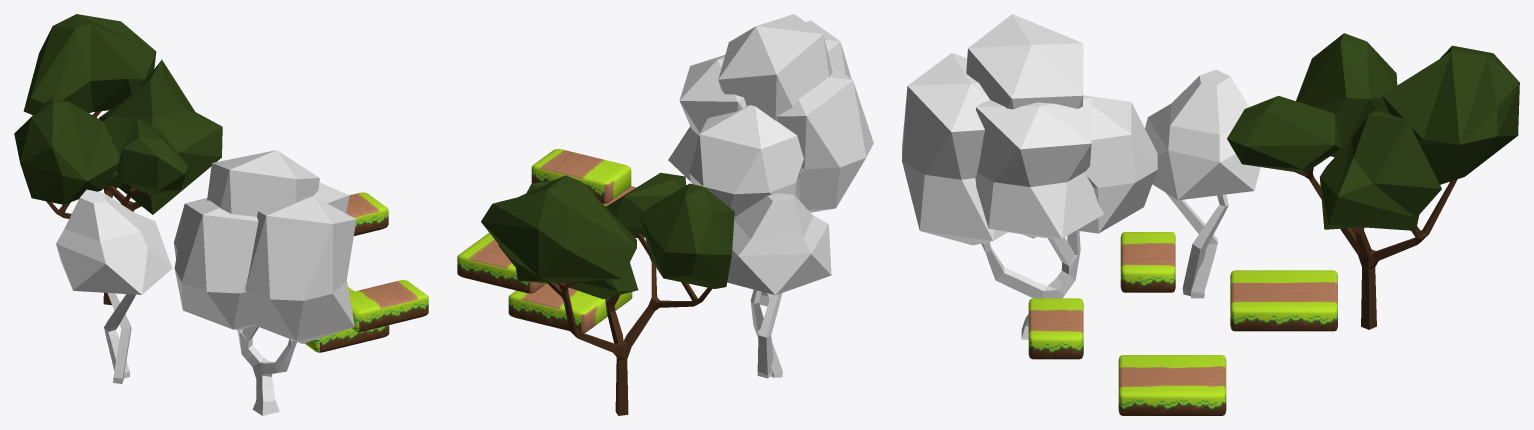
The model's file is ICONE-FAZE-1.fbx.
3 renders of one model, left to right at view 1: azimuth 30°, elevation 25°; view 2: azimuth 150°, elevation 25°; view 3: azimuth 270°, elevation 25°, orthographic. The views are drawn at different scales.
Parts seen in each view (by area): view 1: Crown, Icosphere.037, Icosphere.041, Icosphere.038, Icosphere.039, Ground.037, Cube.009, Ground.039, Ground.041, Cube.010, Cube.011, Vert (+1 smaller); view 2: Crown, Icosphere.036, Icosphere.038, Icosphere.041, Icosphere.039, Vert, Icosphere.040, Ground.041, Ground.039, Ground.040, Cube.010, Icosphere.037 (+1 smaller); view 3: Crown, Icosphere.040, Icosphere.037, Icosphere.041, Icosphere.039, Icosphere.036, Ground.040, Ground.041, Ground.037, Ground.039, Vert, Cube.009 (+2 smaller).
Part boxes in pixels (x1=…): Crown: x1=14, y1=14, x2=222, y2=214; Icosphere.037: x1=245, y1=196, x2=356, y2=343; Icosphere.041: x1=56, y1=189, x2=172, y2=294; Icosphere.038: x1=174, y1=200, x2=258, y2=329; Icosphere.039: x1=207, y1=150, x2=319, y2=216; Ground.037: x1=349, y1=280, x2=428, y2=331; Cube.009: x1=237, y1=325, x2=296, y2=415; Ground.039: x1=346, y1=192, x2=388, y2=235; Ground.041: x1=304, y1=287, x2=389, y2=352; Cube.010: x1=104, y1=294, x2=135, y2=378; Cube.011: x1=107, y1=293, x2=131, y2=383; Vert: x1=46, y1=111, x2=148, y2=305; Crown: x1=481, y1=172, x2=734, y2=299; Icosphere.036: x1=689, y1=105, x2=803, y2=217; Icosphere.038: x1=776, y1=64, x2=873, y2=212; Icosphere.041: x1=727, y1=193, x2=831, y2=295; Icosphere.039: x1=718, y1=14, x2=832, y2=120; Vert: x1=546, y1=233, x2=712, y2=415; Icosphere.040: x1=668, y1=55, x2=746, y2=181; Ground.041: x1=508, y1=283, x2=632, y2=332; Ground.039: x1=531, y1=149, x2=631, y2=203; Ground.040: x1=457, y1=232, x2=546, y2=293; Cube.010: x1=757, y1=293, x2=782, y2=378; Icosphere.037: x1=806, y1=20, x2=851, y2=78; Crown: x1=1227, y1=33, x2=1519, y2=230; Icosphere.040: x1=975, y1=95, x2=1103, y2=238; Icosphere.037: x1=902, y1=53, x2=1007, y2=245; Icosphere.041: x1=1145, y1=69, x2=1260, y2=200; Icosphere.039: x1=966, y1=14, x2=1083, y2=238; Icosphere.036: x1=1076, y1=95, x2=1157, y2=233; Ground.040: x1=1230, y1=270, x2=1337, y2=331; Ground.041: x1=1118, y1=355, x2=1226, y2=415; Ground.037: x1=1028, y1=298, x2=1083, y2=359; Ground.039: x1=1120, y1=232, x2=1175, y2=292; Vert: x1=1295, y1=167, x2=1457, y2=329; Cube.009: x1=981, y1=230, x2=1080, y2=339.
Bounding box in the file's own units: 3177 × 2730 × 5116.
